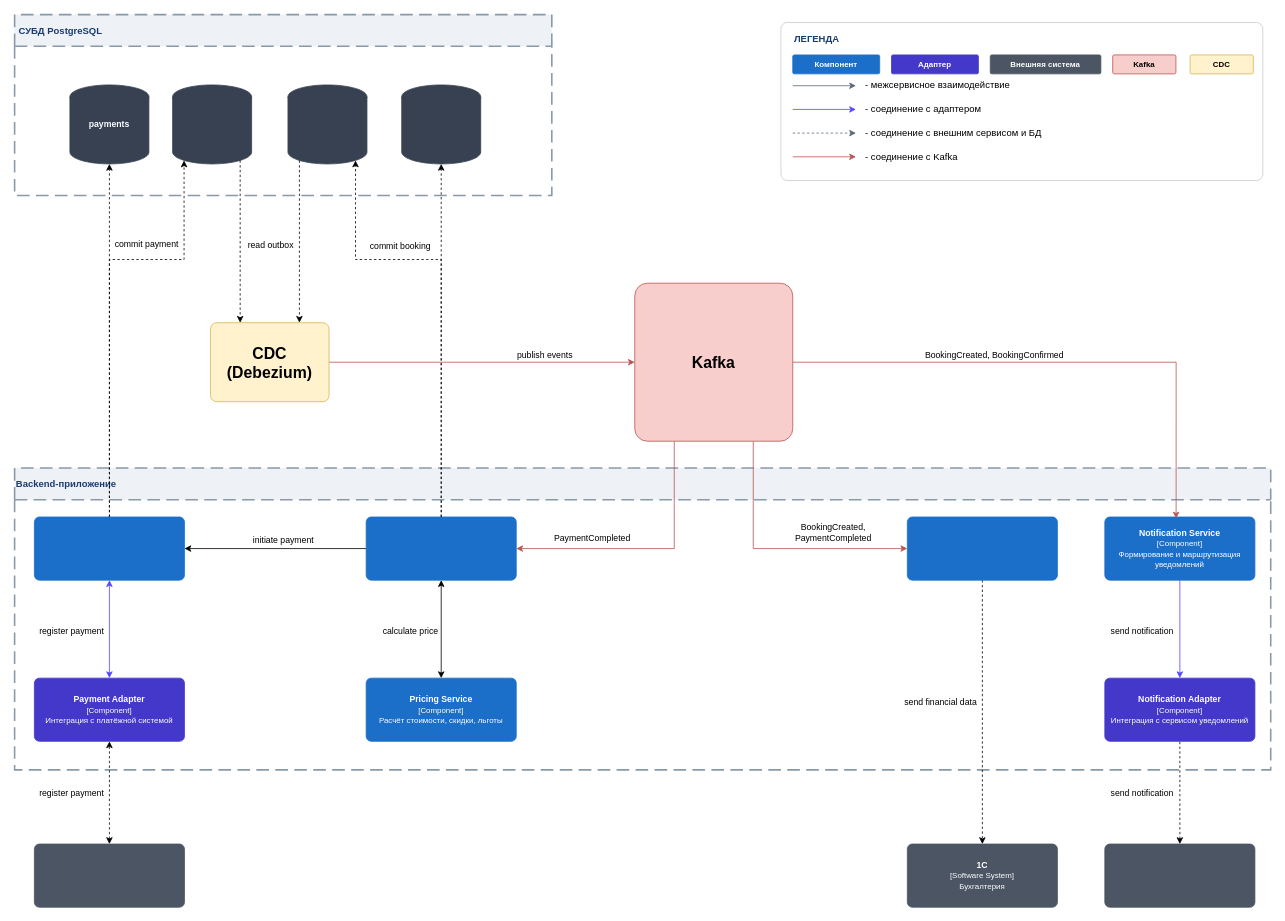
The diagram is 1285 pixels wide and 921 high, and some of its shapes have lost their labels. The centre of each missing label's shape, as x and y in pixels:
Billing Service [Component] Счета, задолженности, история оплат: point (982, 548)
Booking Service [Component] Бронирования, резервация ПМ: point (440, 548)
booking_outbox: point (327, 124)
bookings: point (441, 124)
Payment Service [Component] Платежи, возвраты, чеки: point (109, 548)
payment_outbox: point (212, 124)
Сервис уведомлений [Software System] SMS / push / email: point (1179, 875)
ЮKassa [Software System] Онлайн-оплата: point (109, 875)
